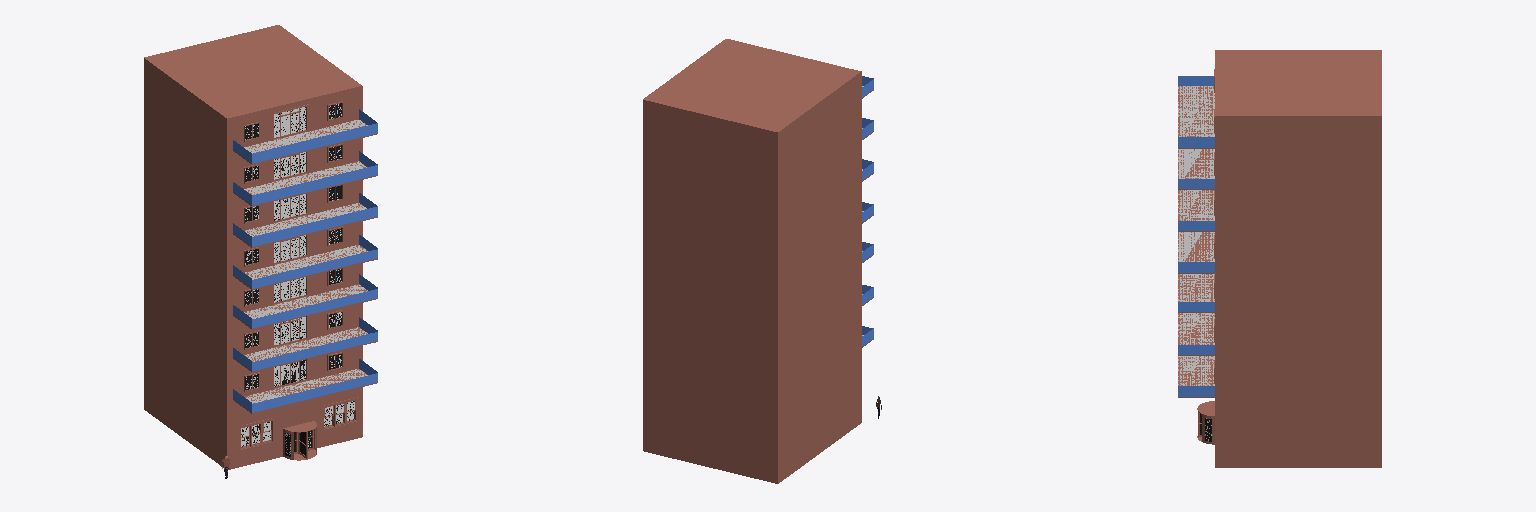
3 renders of one model, left to right at view 1: azimuth 30°, elevation 25°; view 2: azimuth 150°, elevation 25°; view 3: azimuth 270°, elevation 25°, orthographic.
Parts seen in each view (by area): view 1: Mesh136 building1 Model, Mesh38 Door_Glass_Double_Sidelights1 building1 Model, Mesh116 Window_3lite_8__6x5__4_1 building1 Model, Mesh123 Window_3lite_8__6x5__4_2 building1 Model, Mesh68 Door_Glass_Double_Sidelights6 building1 Model, Mesh56 Door_Glass_Double_Sidelights4 building1 Model, Mesh44 Door_Glass_Double_Sidelights2 building1 Model, Mesh50 Door_Glass_Double_Sidelights3 building1 Model, Mesh74 Door_Glass_Double_Sidelights7 building1 Model, Mesh31 DoorRevolving1 building1 Model, Mesh62 Door_Glass_Double_Sidelights5 building1 Model; view 2: Mesh136 building1 Model; view 3: Mesh136 building1 Model.
Boxes of the visible parts, box(x1,y1,x2,y2) form: Mesh136 building1 Model: box(144, 25, 377, 469); Mesh38 Door_Glass_Double_Sidelights1 building1 Model: box(273, 104, 308, 140); Mesh116 Window_3lite_8__6x5__4_1 building1 Model: box(323, 397, 357, 430); Mesh123 Window_3lite_8__6x5__4_2 building1 Model: box(240, 418, 273, 450); Mesh68 Door_Glass_Double_Sidelights6 building1 Model: box(273, 316, 308, 347); Mesh56 Door_Glass_Double_Sidelights4 building1 Model: box(273, 235, 308, 265); Mesh44 Door_Glass_Double_Sidelights2 building1 Model: box(273, 151, 308, 181); Mesh50 Door_Glass_Double_Sidelights3 building1 Model: box(273, 193, 308, 223); Mesh74 Door_Glass_Double_Sidelights7 building1 Model: box(273, 359, 308, 389); Mesh31 DoorRevolving1 building1 Model: box(283, 421, 316, 460); Mesh62 Door_Glass_Double_Sidelights5 building1 Model: box(273, 276, 308, 304); Mesh136 building1 Model: box(643, 39, 873, 483); Mesh136 building1 Model: box(1178, 50, 1381, 467).
Bounding box in the file's own units: 11.84 × 26.8 × 14.15.